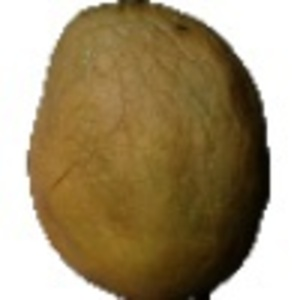mamão: (18, 3, 274, 293)
